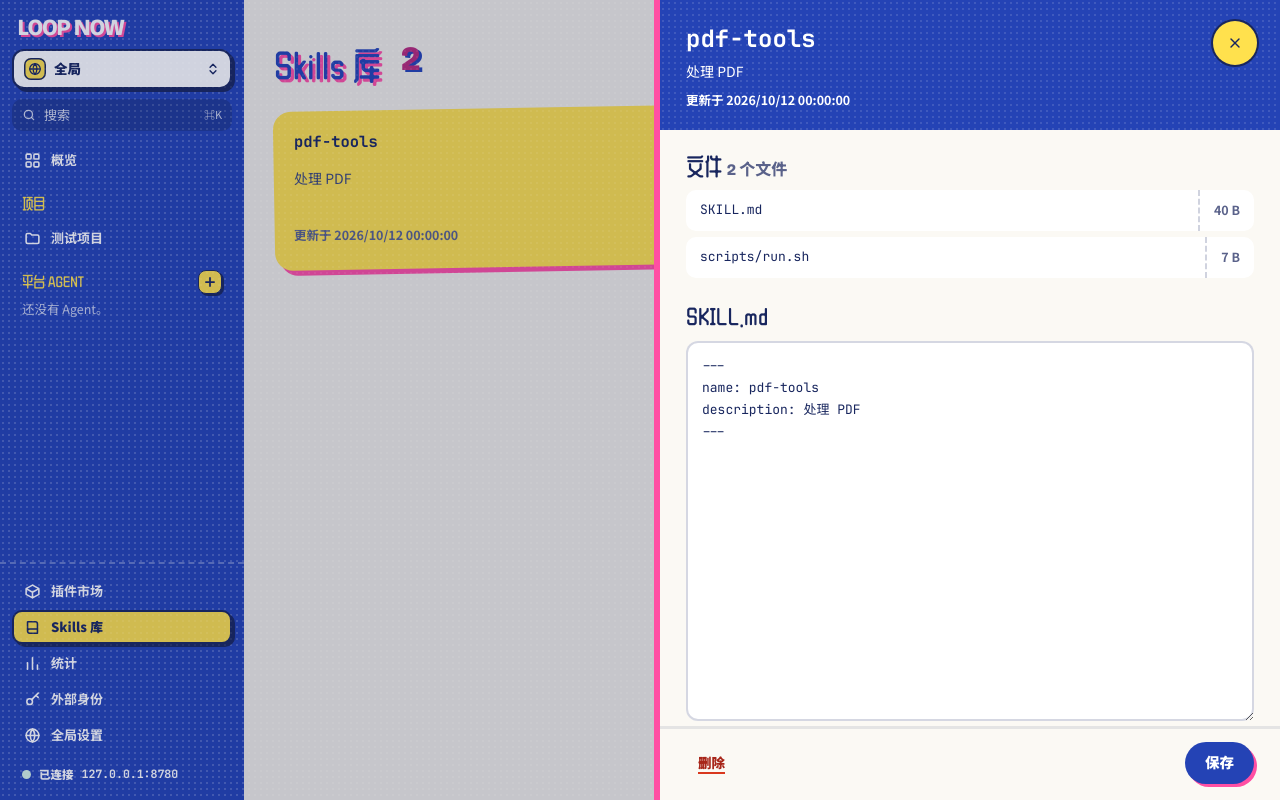
Test: 抽屉由地址控制开合 › 直接打开 /skills/:skillId 时显示网格并打开详情抽屉，关闭后回到 /skills
The image size is (1280, 800).
Expected: the text "处理 PDF" is shown, [686,63,743,80]
Click the button named "关闭" at [1235, 43], box [1216,24,1254,62]
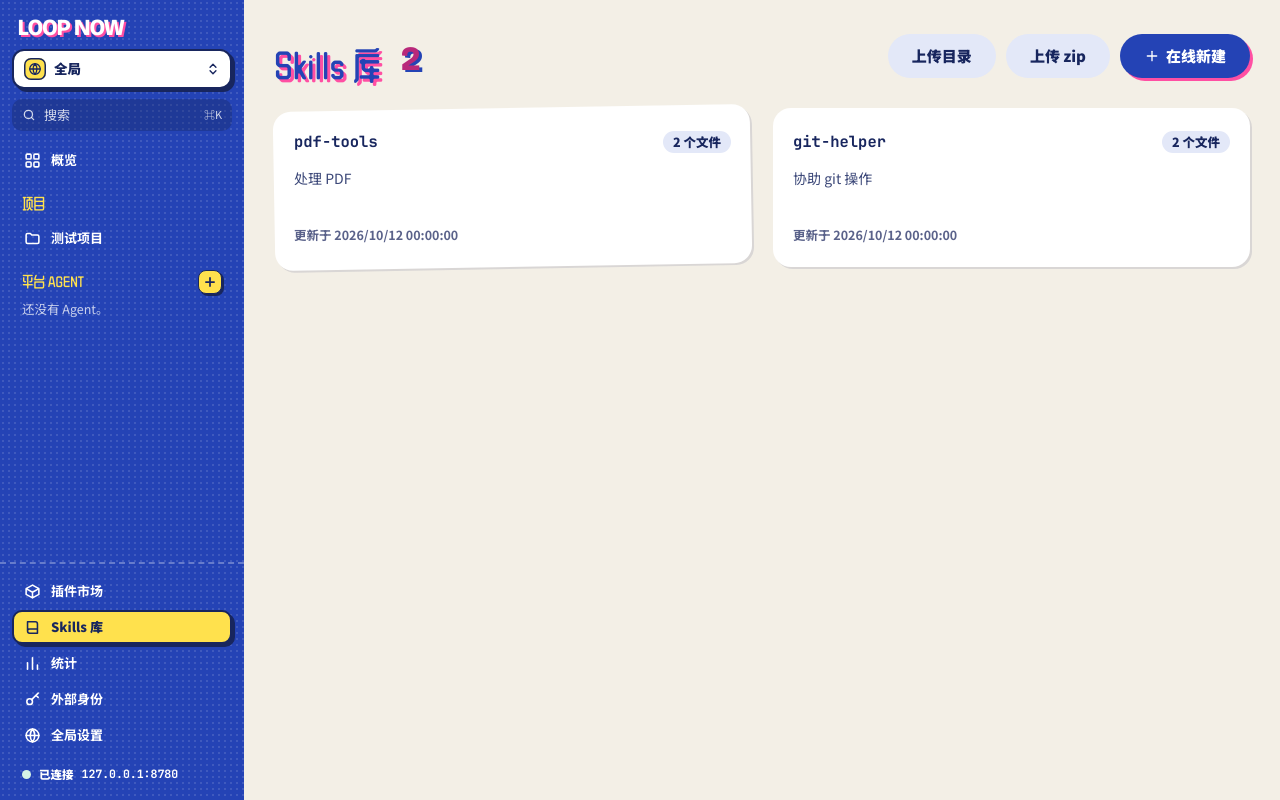
Expected: the list named "Skills 库" is shown, [274,108,1250,267]
Result: the dialog is gone
